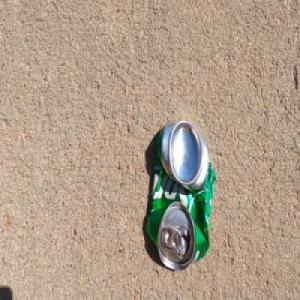SodaCan: (144, 118, 216, 272)
